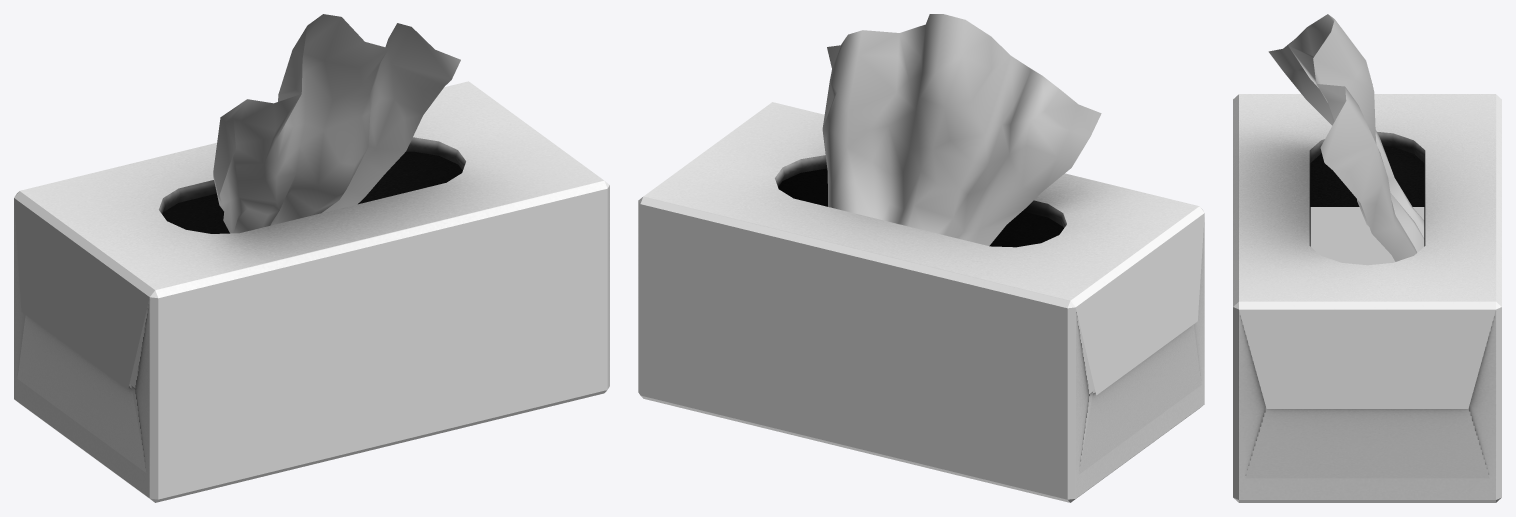
File: TissueBox1.fbx
3 renders of one model, left to right at view 1: azimuth 30°, elevation 25°; view 2: azimuth 150°, elevation 25°; view 3: azimuth 270°, elevation 25°, orthographic. The views are drawn at different scales.
Visible parts, largest first — view 1: Cube.003, Cube.001; view 2: Cube.003, Cube.001; view 3: Cube.003, Cube.001.
Part boxes in pixels (bbox=[...]): Cube.003: bbox=[14, 81, 609, 502]; Cube.001: bbox=[213, 14, 460, 233]; Cube.003: bbox=[638, 102, 1204, 502]; Cube.001: bbox=[822, 14, 1101, 245]; Cube.003: bbox=[1233, 94, 1501, 502]; Cube.001: bbox=[1268, 14, 1424, 261].
Bounding box in the file's own units: 386 × 310 × 200.
